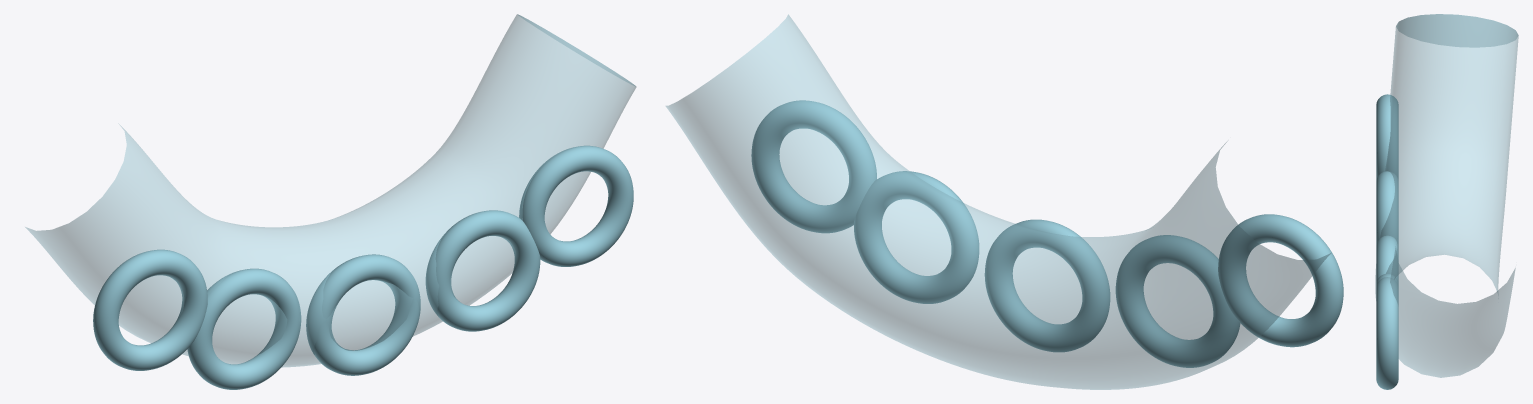
3 views of the same model, side by side, from view 1: azimuth 30°, elevation 25°; view 2: azimuth 150°, elevation 25°; view 3: azimuth 270°, elevation 25° (orthographic). The views are drawn at different scales.
Parts seen in each view (by area): view 1: crescent-dock, socket-0, socket-2, socket-3, socket-4, socket-1; view 2: crescent-dock, socket-0, socket-2, socket-3, socket-4, socket-1; view 3: crescent-dock, socket-4, socket-0, socket-1, socket-2.
Part boxes in pixels (<box>): crescent-dock: <box>25,14,636,367</box>; socket-0: <box>93,249,207,370</box>; socket-2: <box>306,254,420,375</box>; socket-3: <box>425,210,540,331</box>; socket-4: <box>519,145,633,266</box>; socket-1: <box>187,268,301,389</box>; crescent-dock: <box>666,14,1330,389</box>; socket-0: <box>1218,214,1343,347</box>; socket-2: <box>984,219,1110,352</box>; socket-3: <box>854,171,979,303</box>; socket-4: <box>751,100,876,233</box>; socket-1: <box>1115,235,1240,367</box>; crescent-dock: <box>1375,14,1518,377</box>; socket-4: <box>1376,277,1398,389</box>; socket-0: <box>1376,94,1398,179</box>; socket-1: <box>1376,171,1398,244</box>; socket-2: <box>1376,235,1398,282</box>.
Bounding box in the file's own units: 2.96 × 1.29 × 0.6987.
